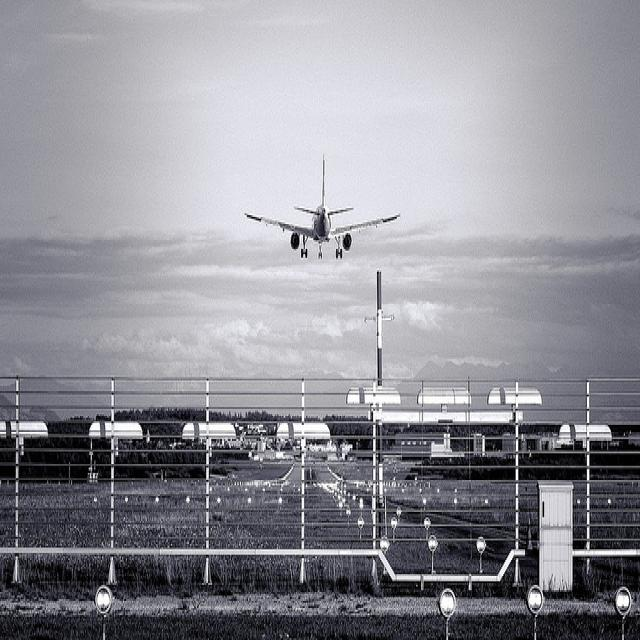airplane: (242, 149, 402, 262)
